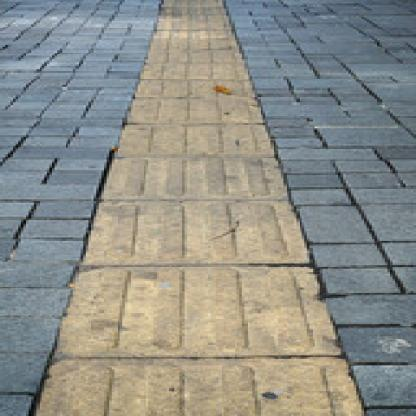podotacti: (13, 0, 405, 416)
